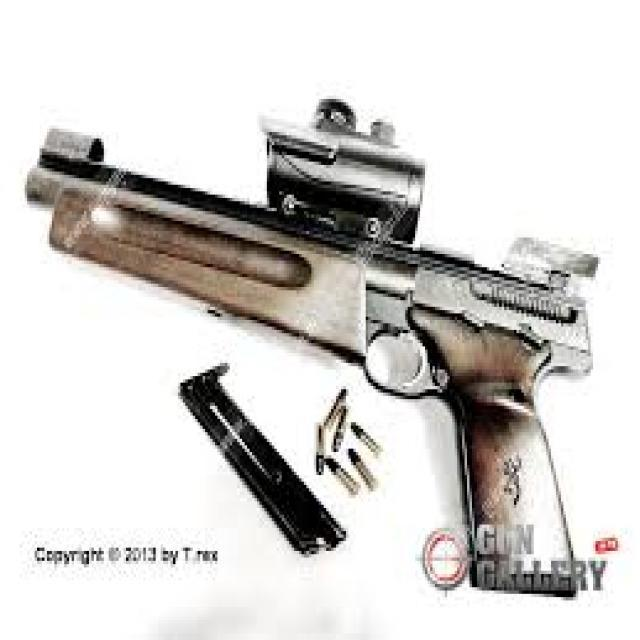semi automatic: (15, 76, 622, 608)
